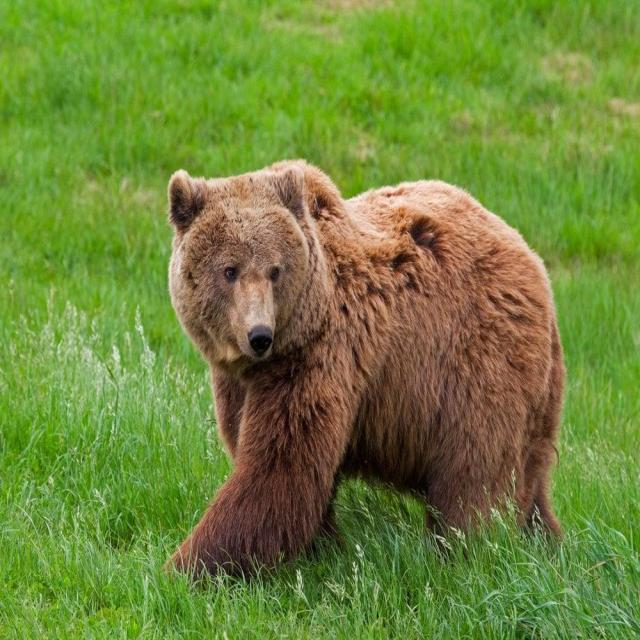Bear: (166, 160, 568, 578)
